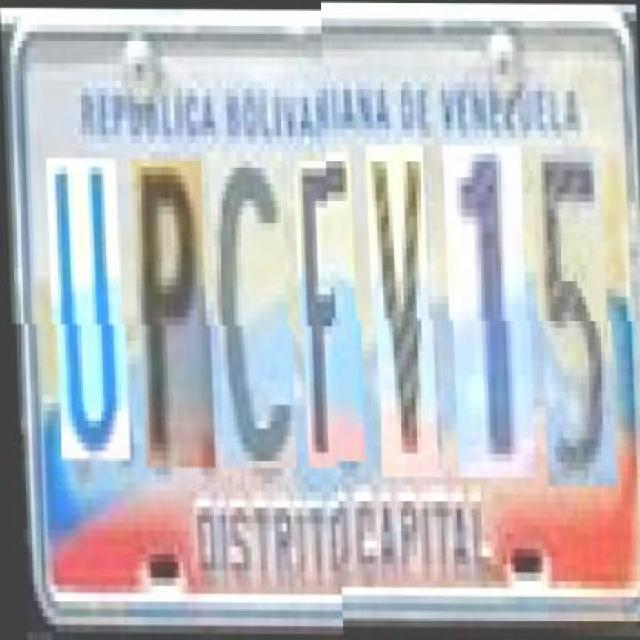1: (445, 153, 533, 485)
5: (534, 154, 614, 494)
c: (211, 150, 294, 468)
f: (296, 152, 362, 468)
p: (134, 159, 212, 467)
u: (48, 158, 127, 458)
v: (370, 152, 436, 485)
